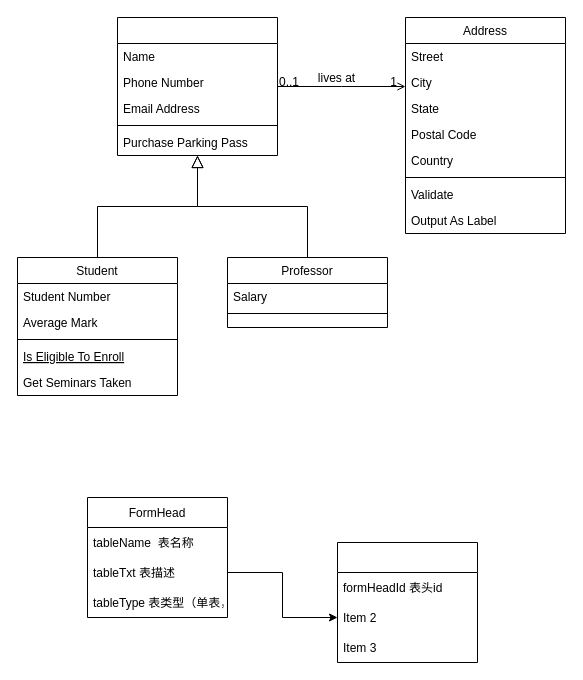
Some shapes in this 583 by 680 pixel diagram are drawn without their labels. The box of each missing label's shape, as (x1, y1, x2, y2) in pixels:
FormField: (336, 542, 478, 662)
Person: (116, 16, 278, 156)
